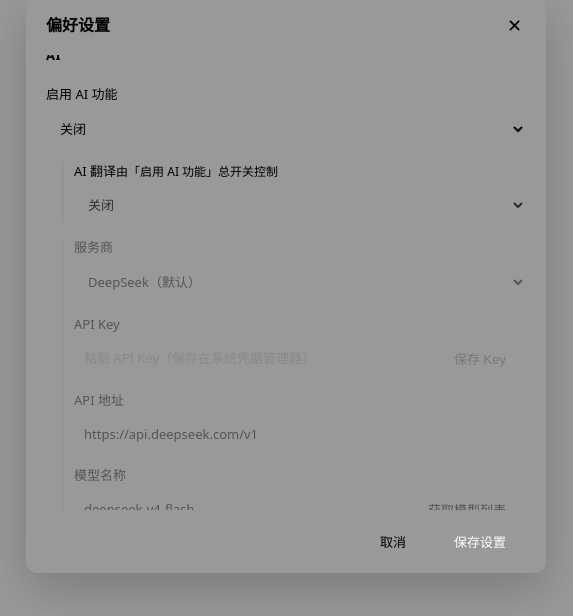
Test: v0.6.0 SettingsDialog AI 翻译分组 › Provider 切换：自动填充 baseUrl/默认模型并实时写 store
This screenshot has width=573, height=616.
(page scrolled)
Select "Kimi（月之暗面）" in the dropdown with test id "translate-provider" at (300, 282), box [74,264,526,300]
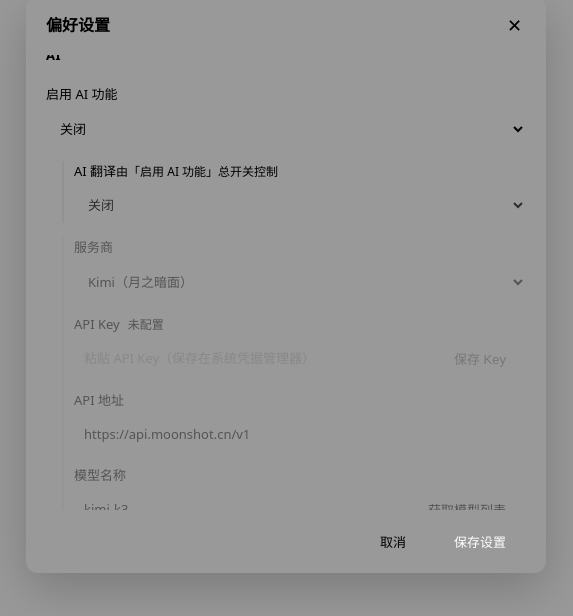
Expected: the field with test id "translate-base-url" holds "https://api.moonshot.cn/v1", [74,417,290,451]
